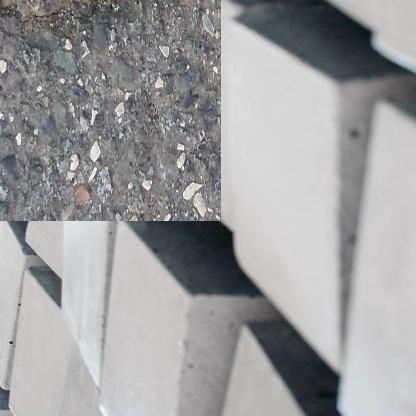Cracks: (0, 0, 160, 32)
